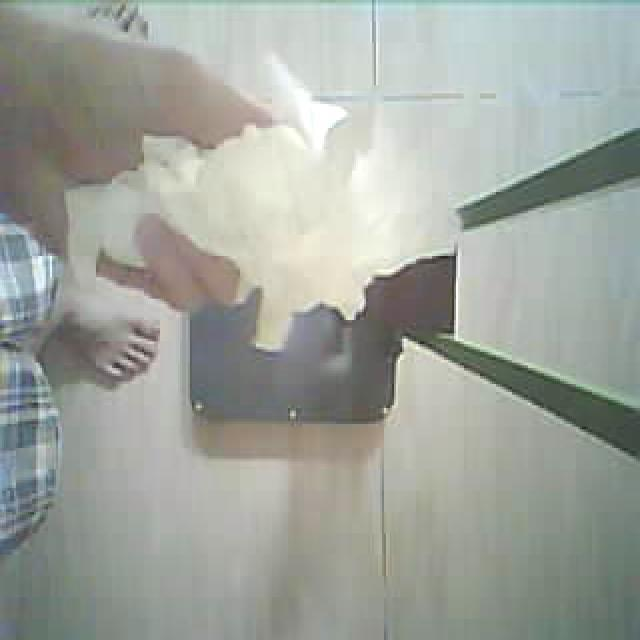Paper: (46, 26, 512, 457)
